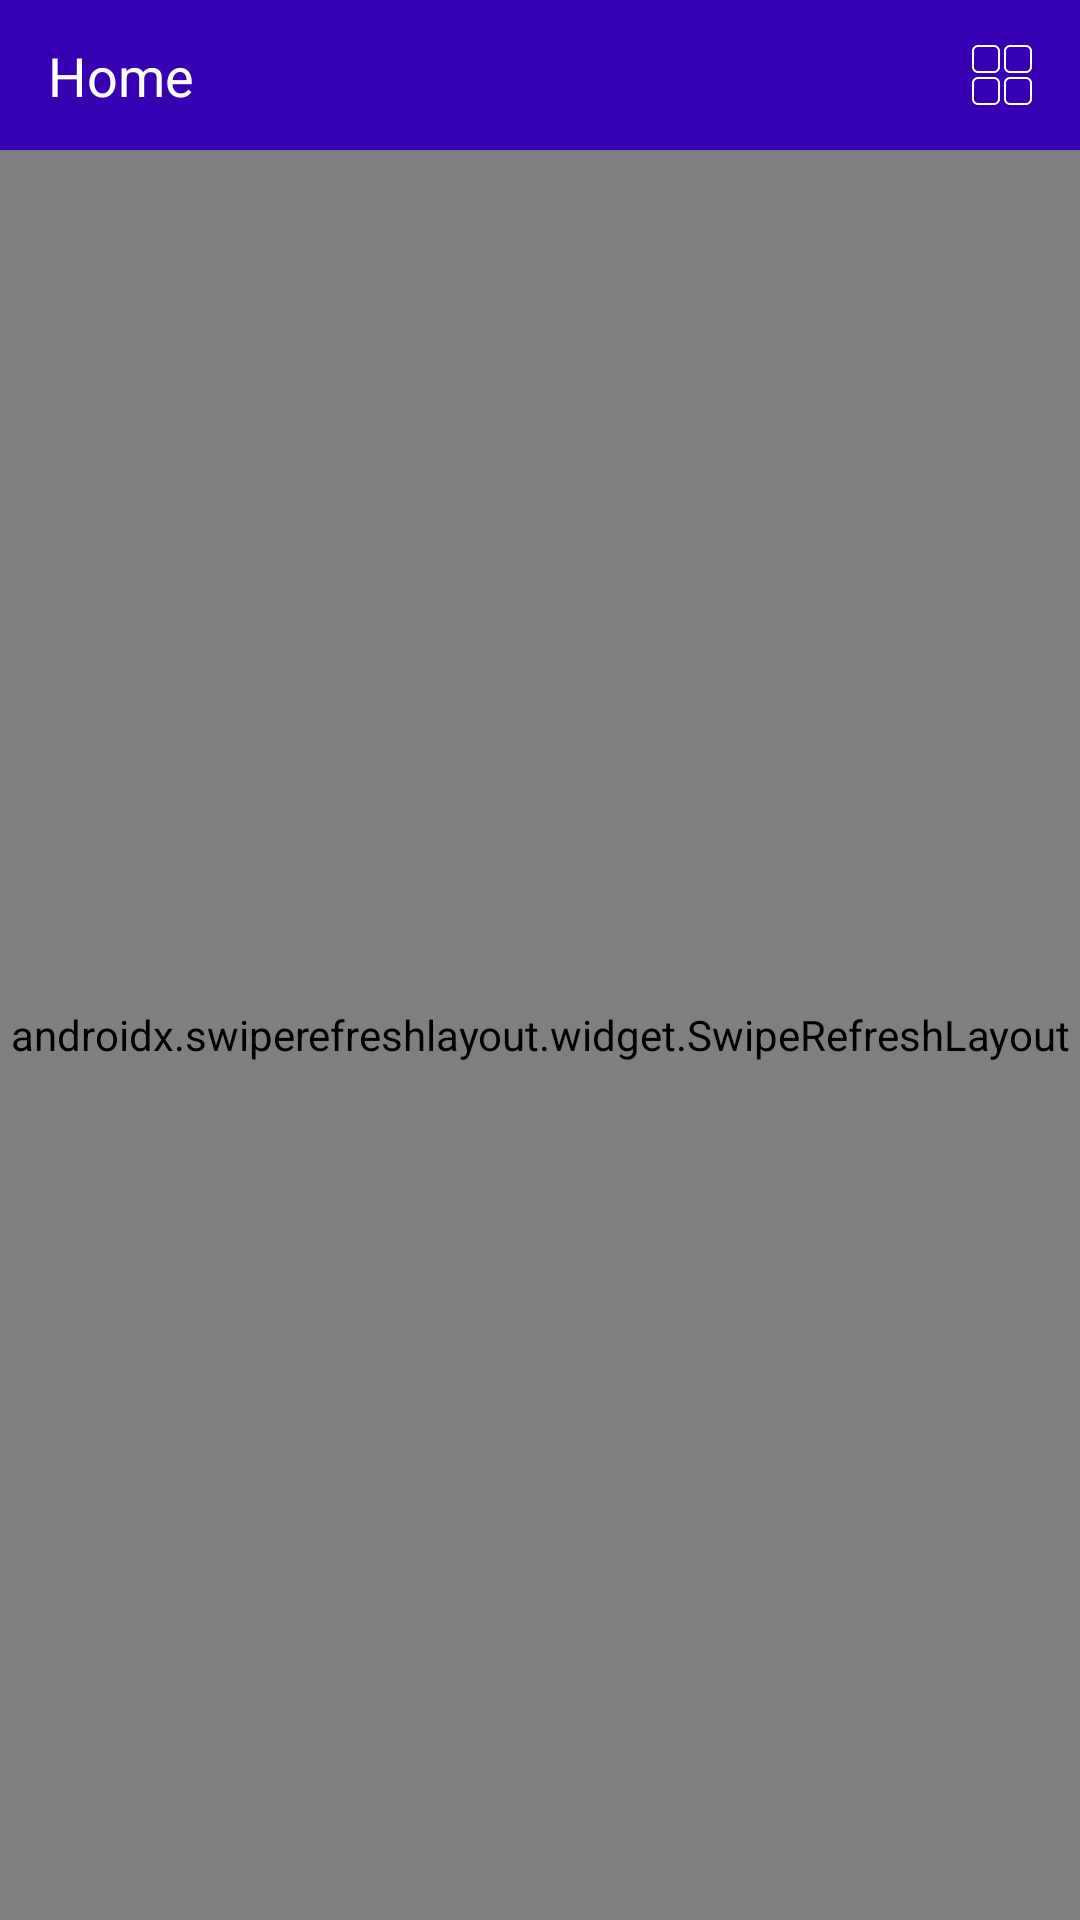

Screen size 1080w x 1920h. Icon name, then its center in pixels as [x,y]:
grid: [1002,75]
